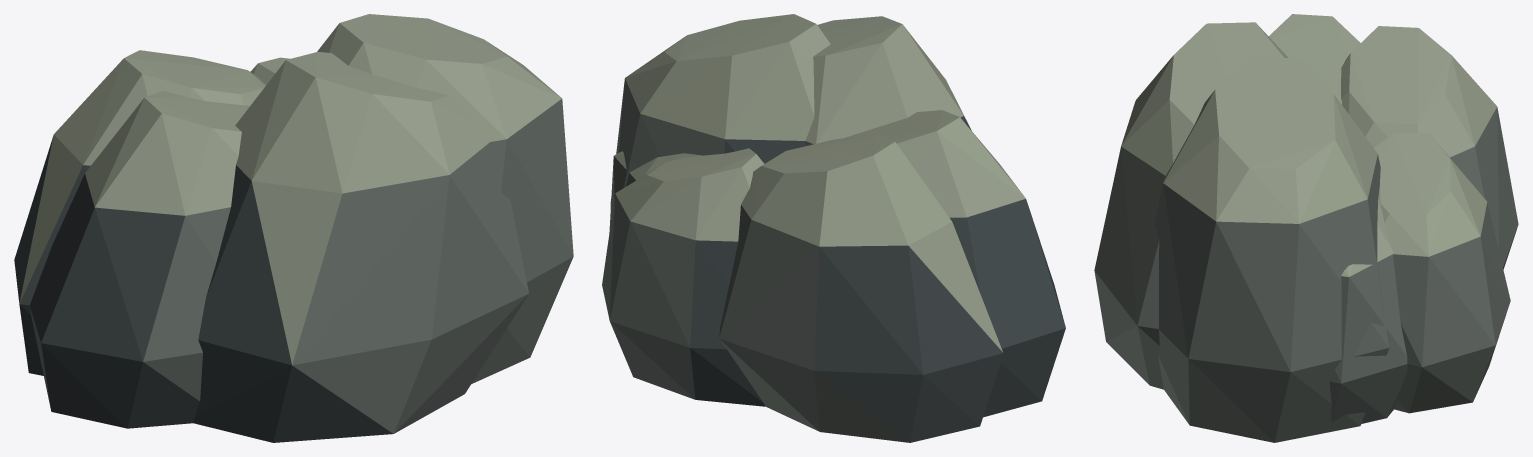
The model's file is TW_ROCK_CLUSTER_LARGE_B_LOD0.glb.
3 views of the same model, side by side, from view 1: azimuth 30°, elevation 25°; view 2: azimuth 150°, elevation 25°; view 3: azimuth 270°, elevation 25° (orthographic). The views are drawn at different scales.
Parts seen in each view (by area): view 1: TW_ROCK_CLUSTER_LARGE_B_LOD0; view 2: TW_ROCK_CLUSTER_LARGE_B_LOD0; view 3: TW_ROCK_CLUSTER_LARGE_B_LOD0.
Part boxes in pixels (x1,y1,x2,y2): TW_ROCK_CLUSTER_LARGE_B_LOD0: (14,14,573,442); TW_ROCK_CLUSTER_LARGE_B_LOD0: (602,14,1065,442); TW_ROCK_CLUSTER_LARGE_B_LOD0: (1094,14,1518,442).
Size of the model in its own units: 1.85 by 1.14 by 1.42.
1 material, 1 textured.
